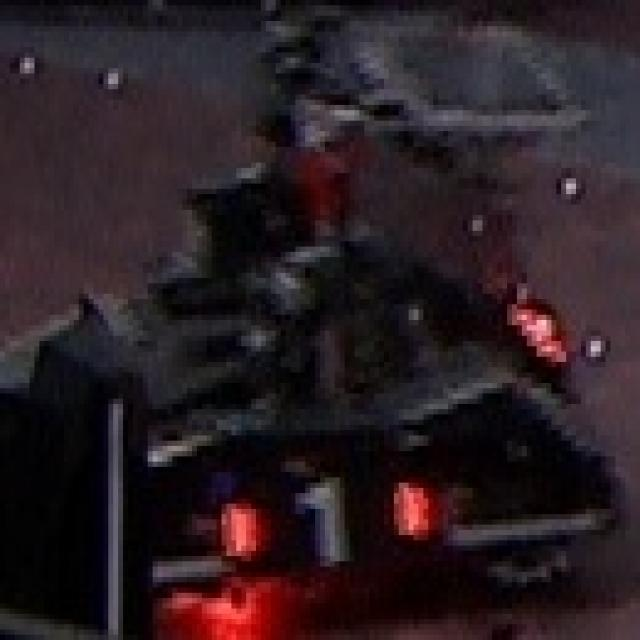R1: (204, 462, 436, 588)
